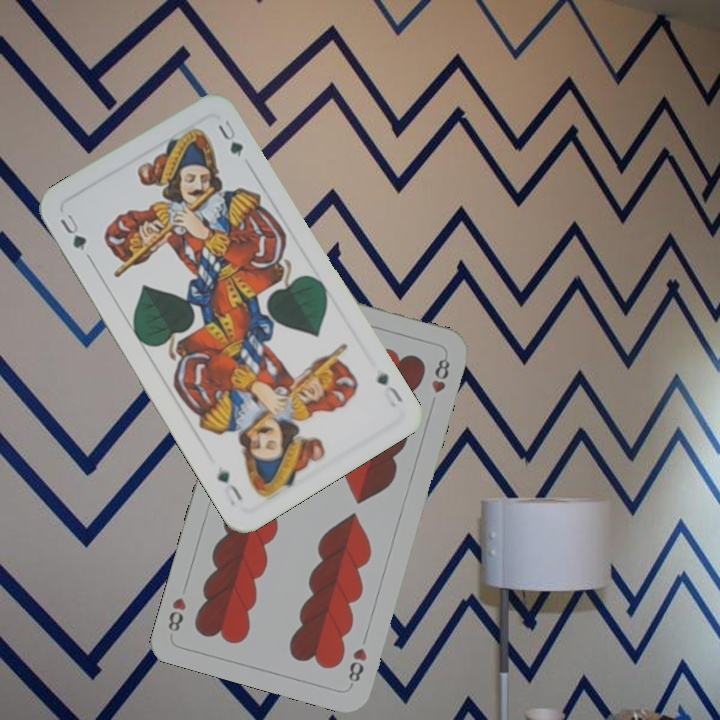GU: (55, 209, 89, 254), (372, 369, 406, 410)
H8: (344, 643, 370, 689)
